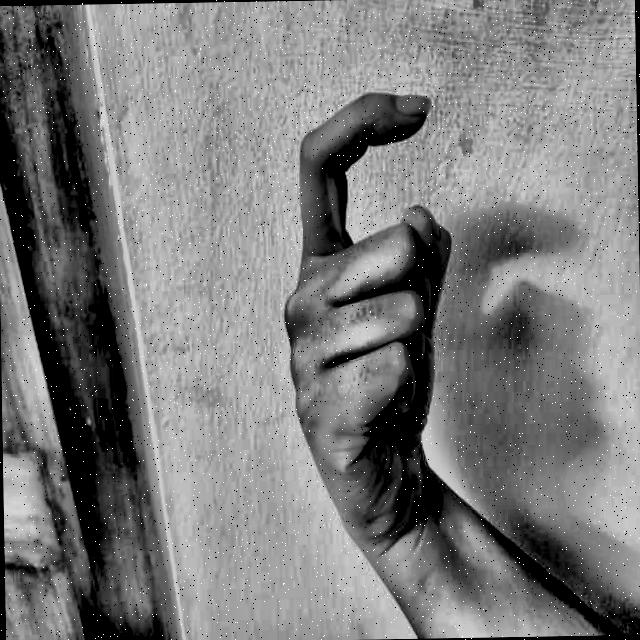E: (255, 54, 520, 544)
